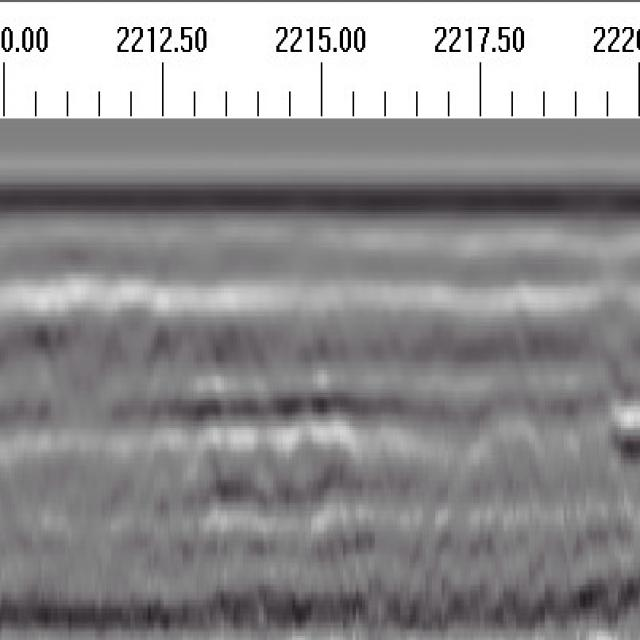loose: (179, 369, 378, 540)
